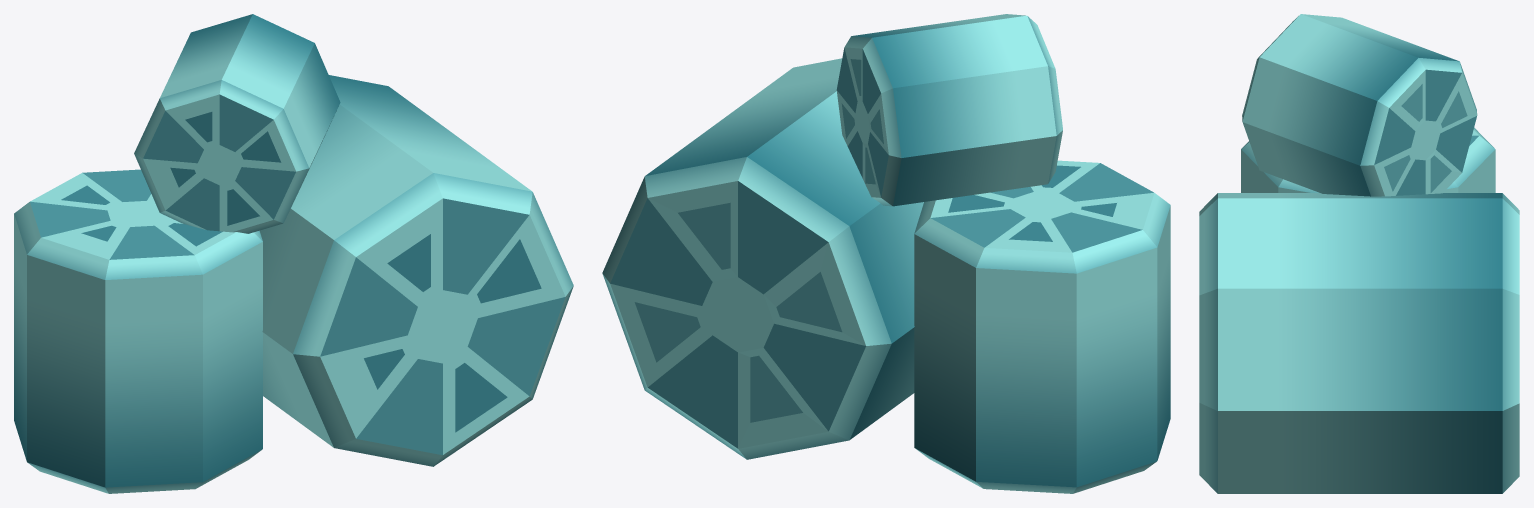
File: Mushroom_revard.fbx
3 renders of one model, left to right at view 1: azimuth 30°, elevation 25°; view 2: azimuth 150°, elevation 25°; view 3: azimuth 270°, elevation 25°, orthographic. The views are drawn at different scales.
Visible parts, largest first — view 1: mushroom_farm.005; view 2: mushroom_farm.005; view 3: mushroom_farm.005.
Boxes of the visible parts, <box> form: mushroom_farm.005: <box>14,14,573,493</box>; mushroom_farm.005: <box>602,14,1170,493</box>; mushroom_farm.005: <box>1199,14,1519,493</box>.
Bounding box in the file's own units: 0.8516 × 0.5086 × 0.6876.
